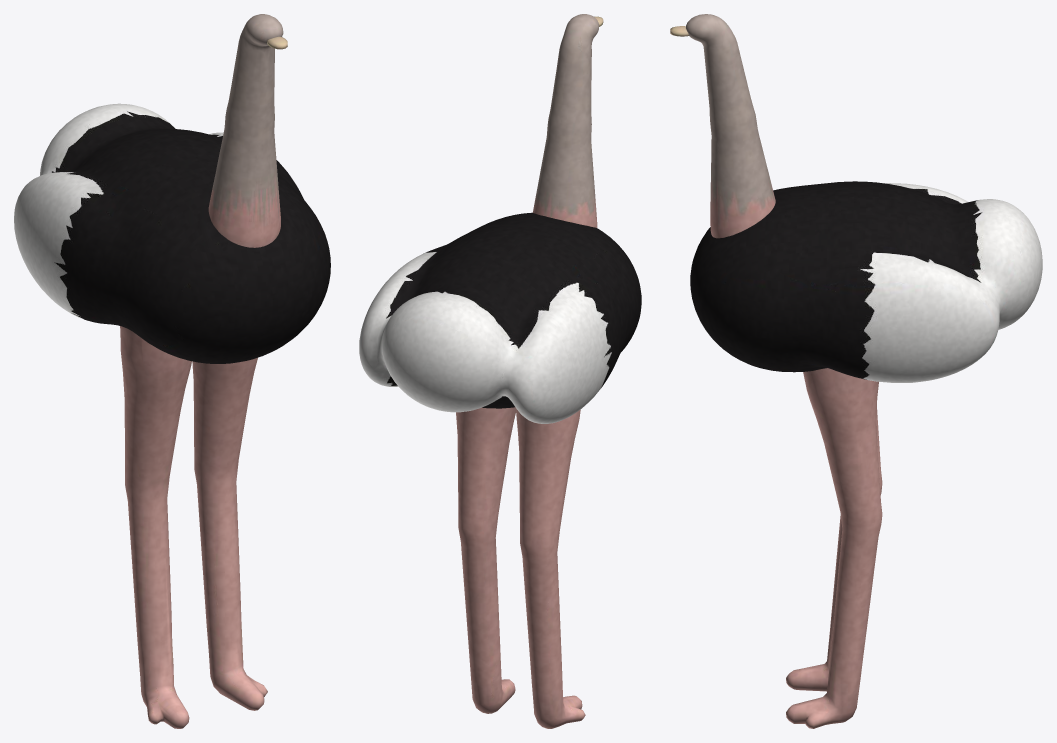
The model's file is animal_ostrich.glb.
The picture shows the model from 3 angles, left to right: view 1: azimuth 30°, elevation 25°; view 2: azimuth 150°, elevation 25°; view 3: azimuth 270°, elevation 25°; orthographic projection. The views are drawn at different scales.
Visible parts, largest first — view 1: animal_ostrich, leg0, leg1, head; view 2: animal_ostrich, leg0, leg1, head; view 3: animal_ostrich, leg1, head, leg0.
Part boxes in pixels (x1,y1,x2,y2): animal_ostrich: (14,103,330,363); leg0: (120,326,191,728); leg1: (192,357,267,710); head: (208,14,287,247); animal_ostrich: (359,212,641,423); leg0: (516,408,585,728); leg1: (456,407,515,713); head: (532,14,603,227); animal_ostrich: (690,181,1042,382); leg1: (786,368,882,728); head: (670,14,775,238); leg0: (786,409,882,691).
Bounding box in the file's own units: 0.3741 × 1.12 × 0.549.
Materials: 1 (1 with a texture image).
